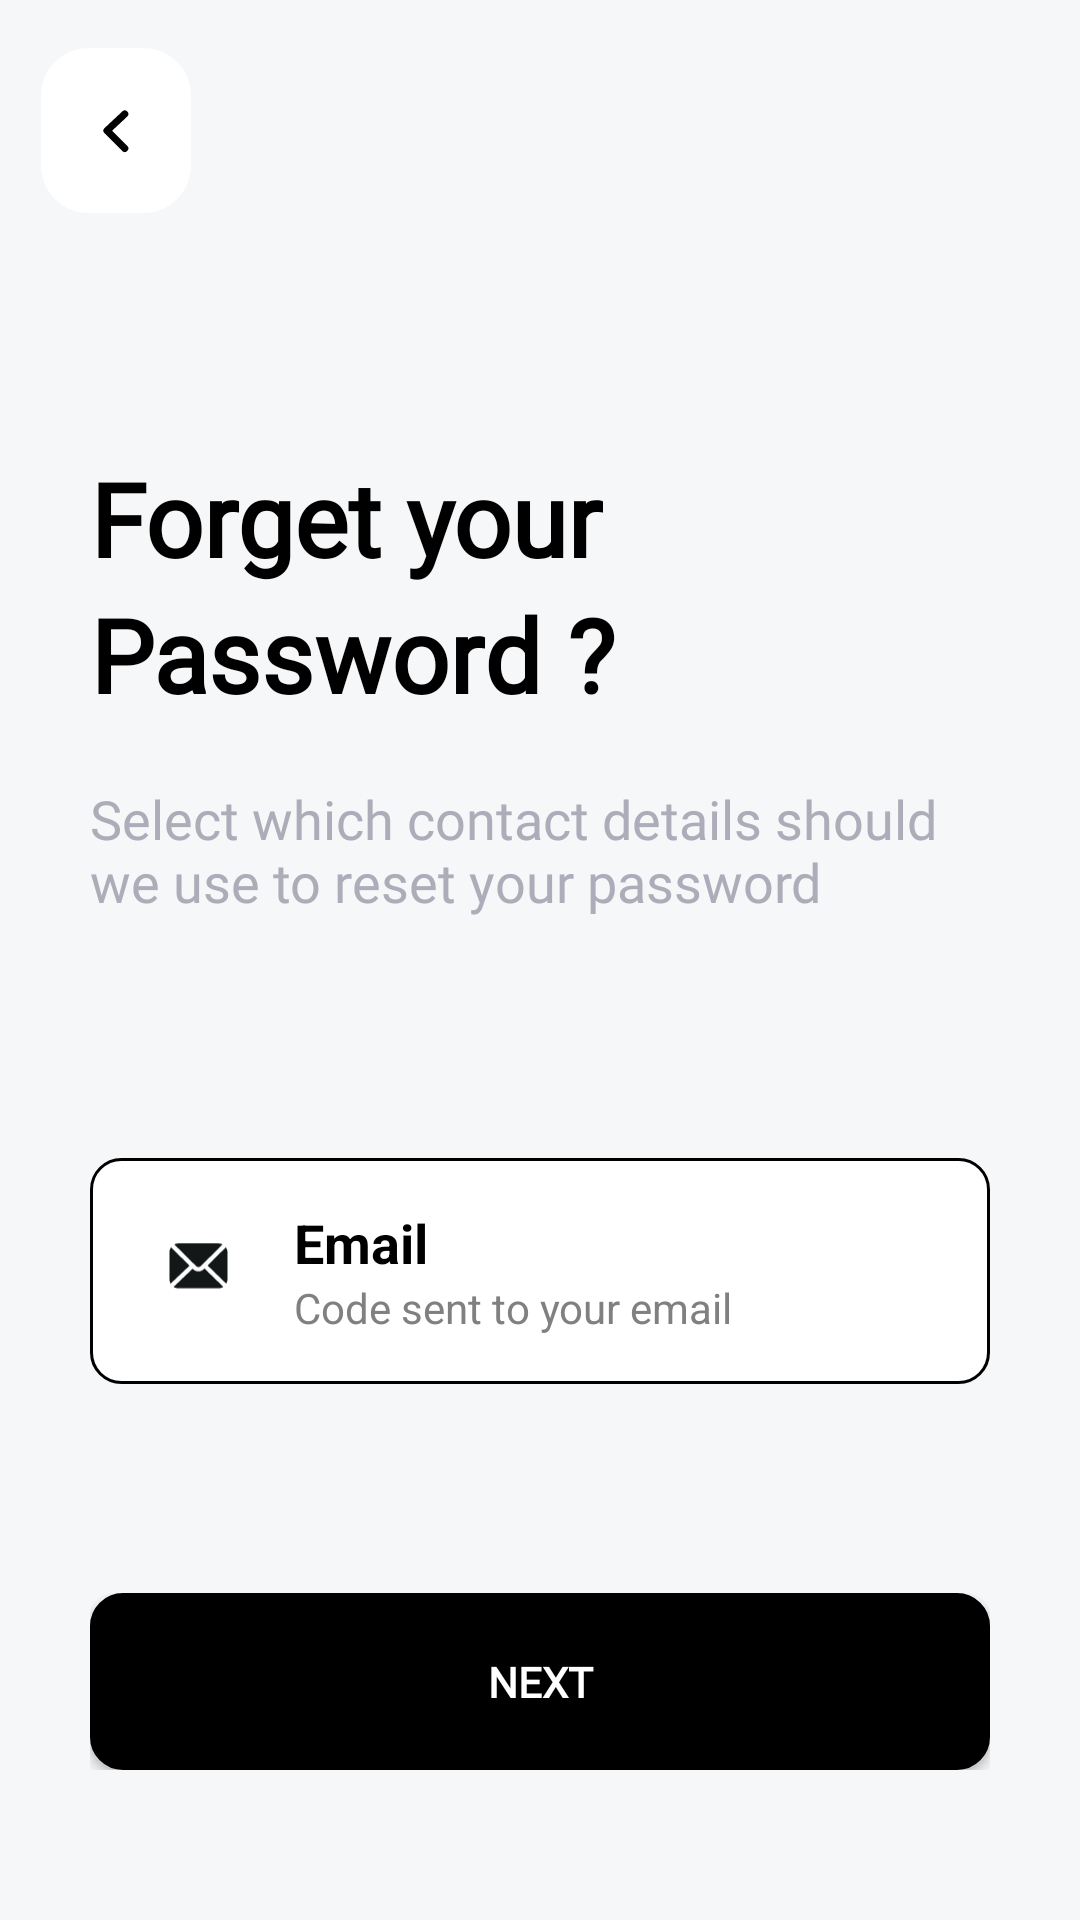

Icon click points for this 1080x1920 phone screenshot, format (x=x, y=y):
back: (x=116, y=130)
